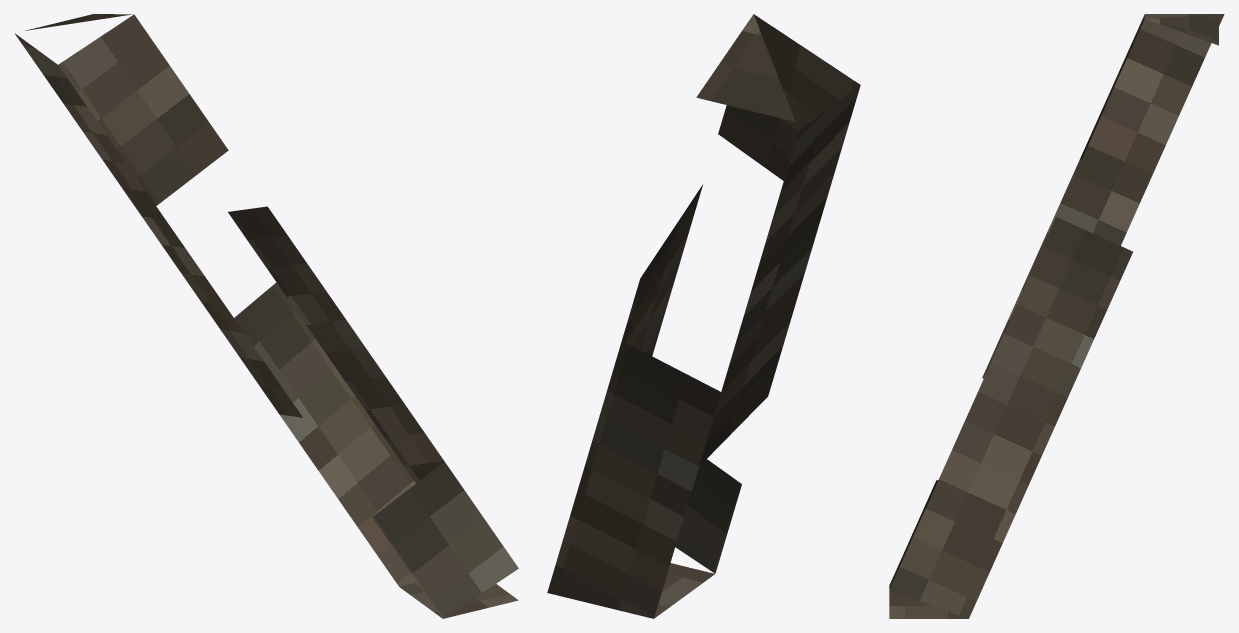
File: oak_thin_branch_22.5_diagonal.obj
The picture shows the model from 3 angles, left to right: view 1: azimuth 30°, elevation 25°; view 2: azimuth 150°, elevation 25°; view 3: azimuth 270°, elevation 25°; orthographic projection. The views are drawn at different scales.
Parts seen in each view (by area): view 1: cube_selection; view 2: cube_selection; view 3: cube_selection.
Part boxes in pixels (<box>): cube_selection: <box>14,14,518,618</box>; cube_selection: <box>547,14,860,618</box>; cube_selection: <box>889,14,1224,618</box>.
Size of the model in its own units: 1.31 by 2.12 by 1.31.
